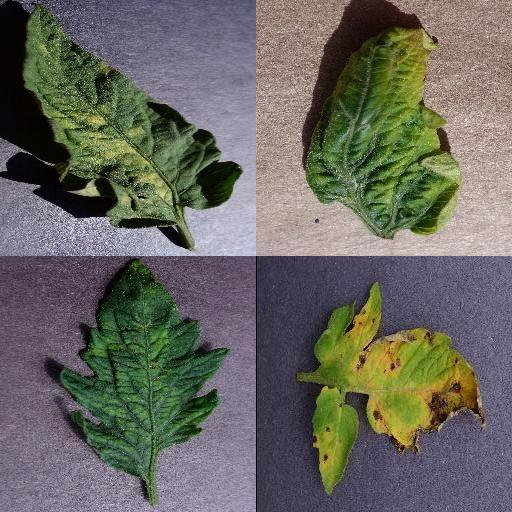Leaf Mold: (21, 0, 244, 229)
Mosaic Virus: (58, 259, 231, 481)
Septoria: (311, 285, 485, 454), (311, 387, 359, 497)
Yellow Leaf Curl Virus: (303, 27, 460, 239)
